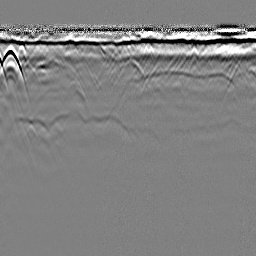cavity: (120, 53, 144, 78)
